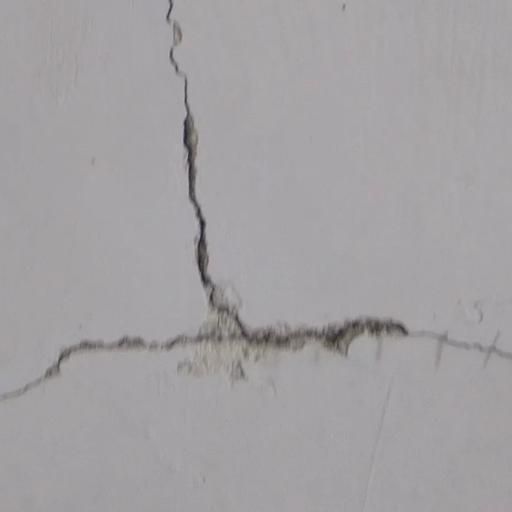major_crack: (0, 305, 512, 410), (159, 0, 274, 359)
